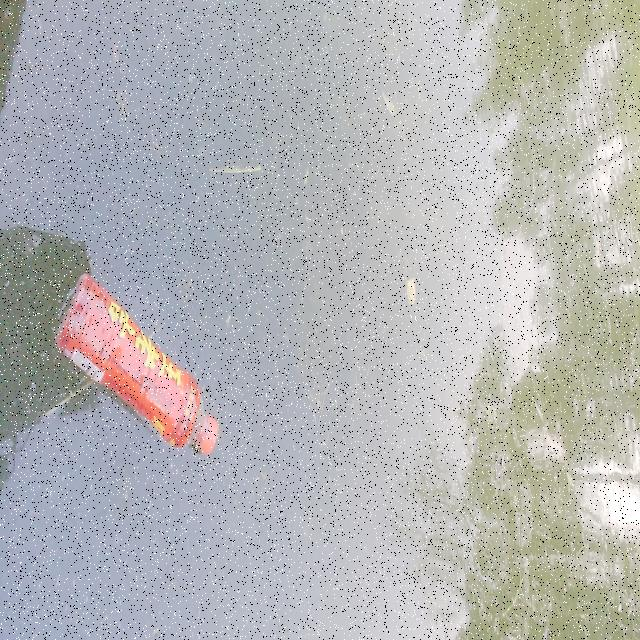Bottle: (52, 262, 220, 458)
